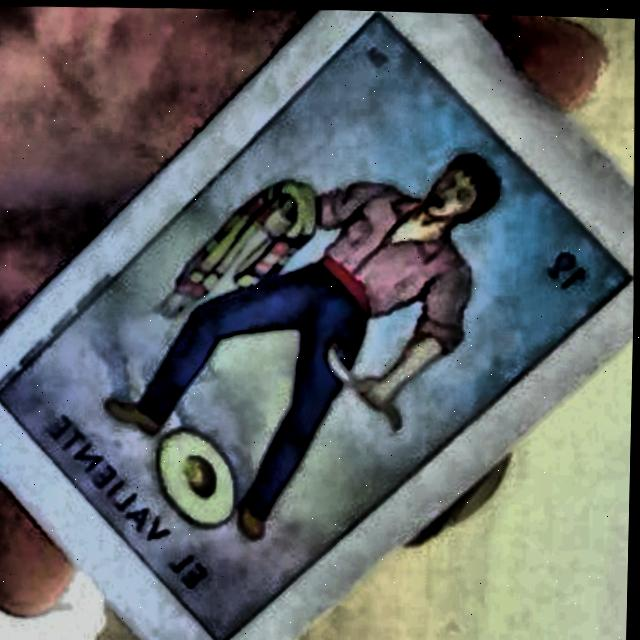El Valiente: (1, 10, 630, 638)
